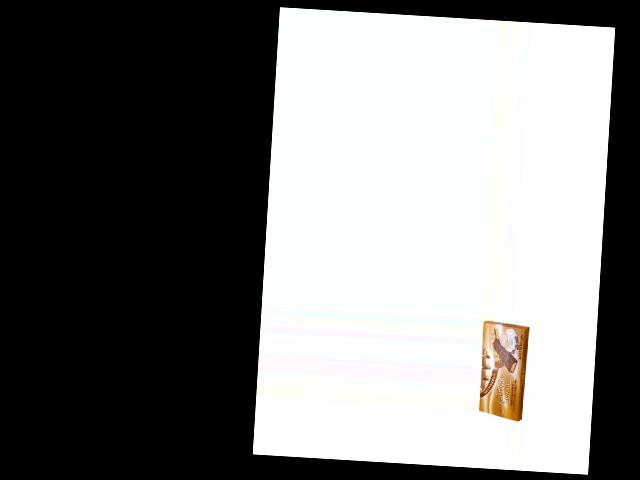chocolate: (476, 320, 529, 423)
